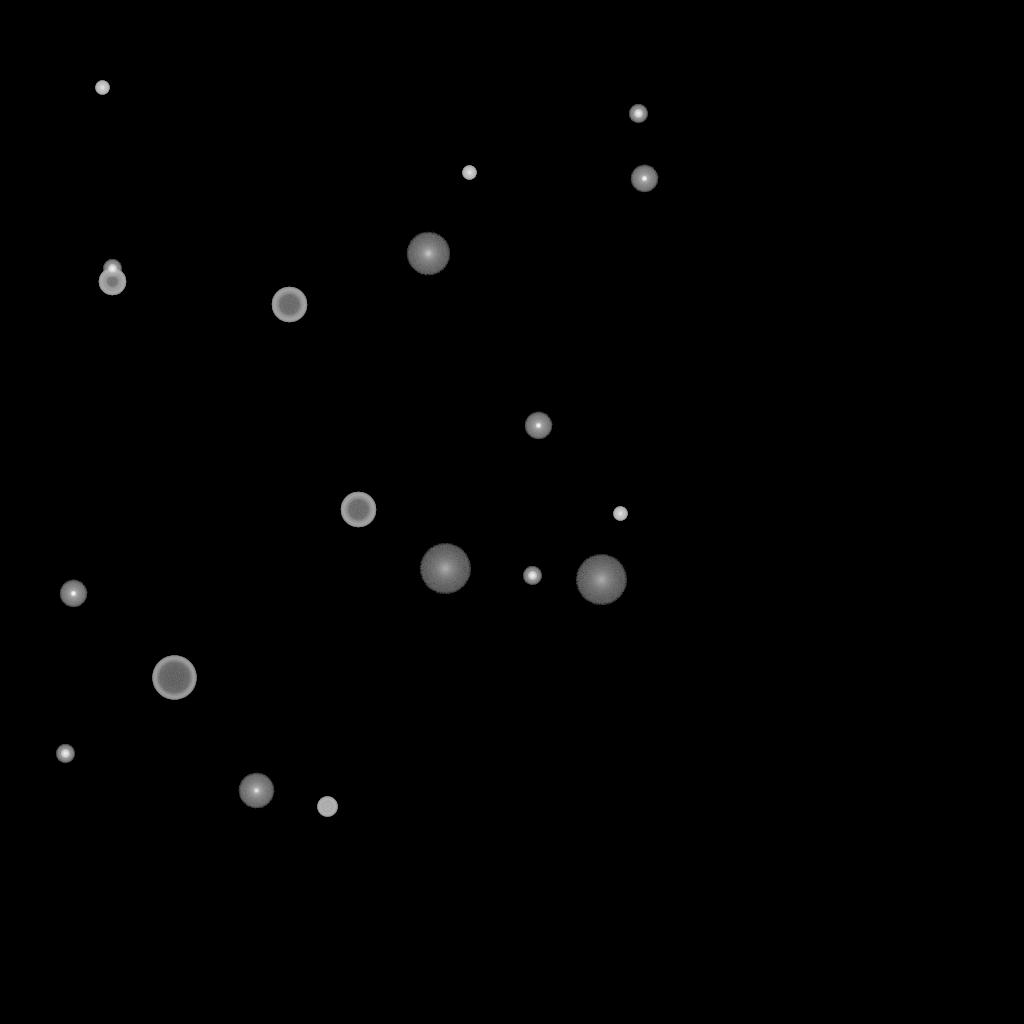depth:-10: (630, 165, 658, 193), (59, 580, 87, 608), (524, 412, 552, 440)
depth:-20: (56, 745, 74, 763), (629, 105, 647, 123), (523, 567, 541, 585), (103, 260, 121, 278)
depth:-30: (462, 166, 476, 180), (613, 507, 627, 521), (95, 81, 109, 95)
depth:-40: (317, 797, 337, 817)
depth:-50: (98, 268, 126, 296)
depth:-60: (271, 287, 307, 323), (340, 492, 376, 528)
depth:-70: (152, 656, 196, 700)
depth:0: (238, 773, 274, 809)
depth:10: (406, 232, 450, 276)
depth:20: (419, 544, 471, 594), (575, 555, 627, 605)
